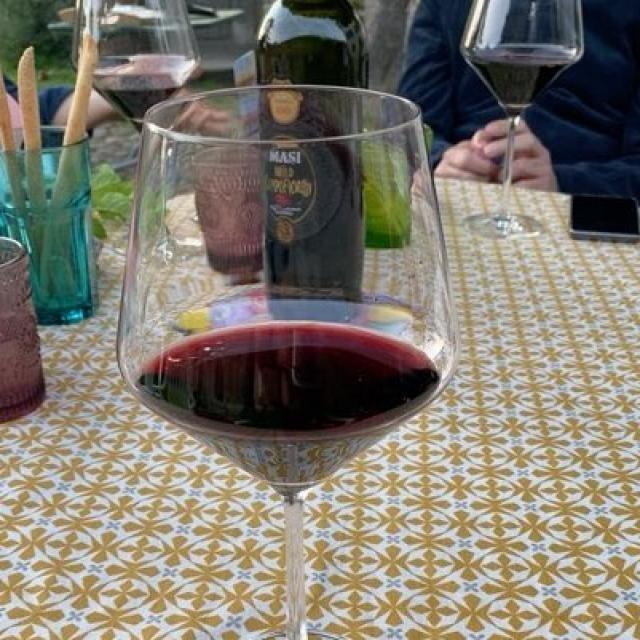wine: (143, 314, 425, 504)
